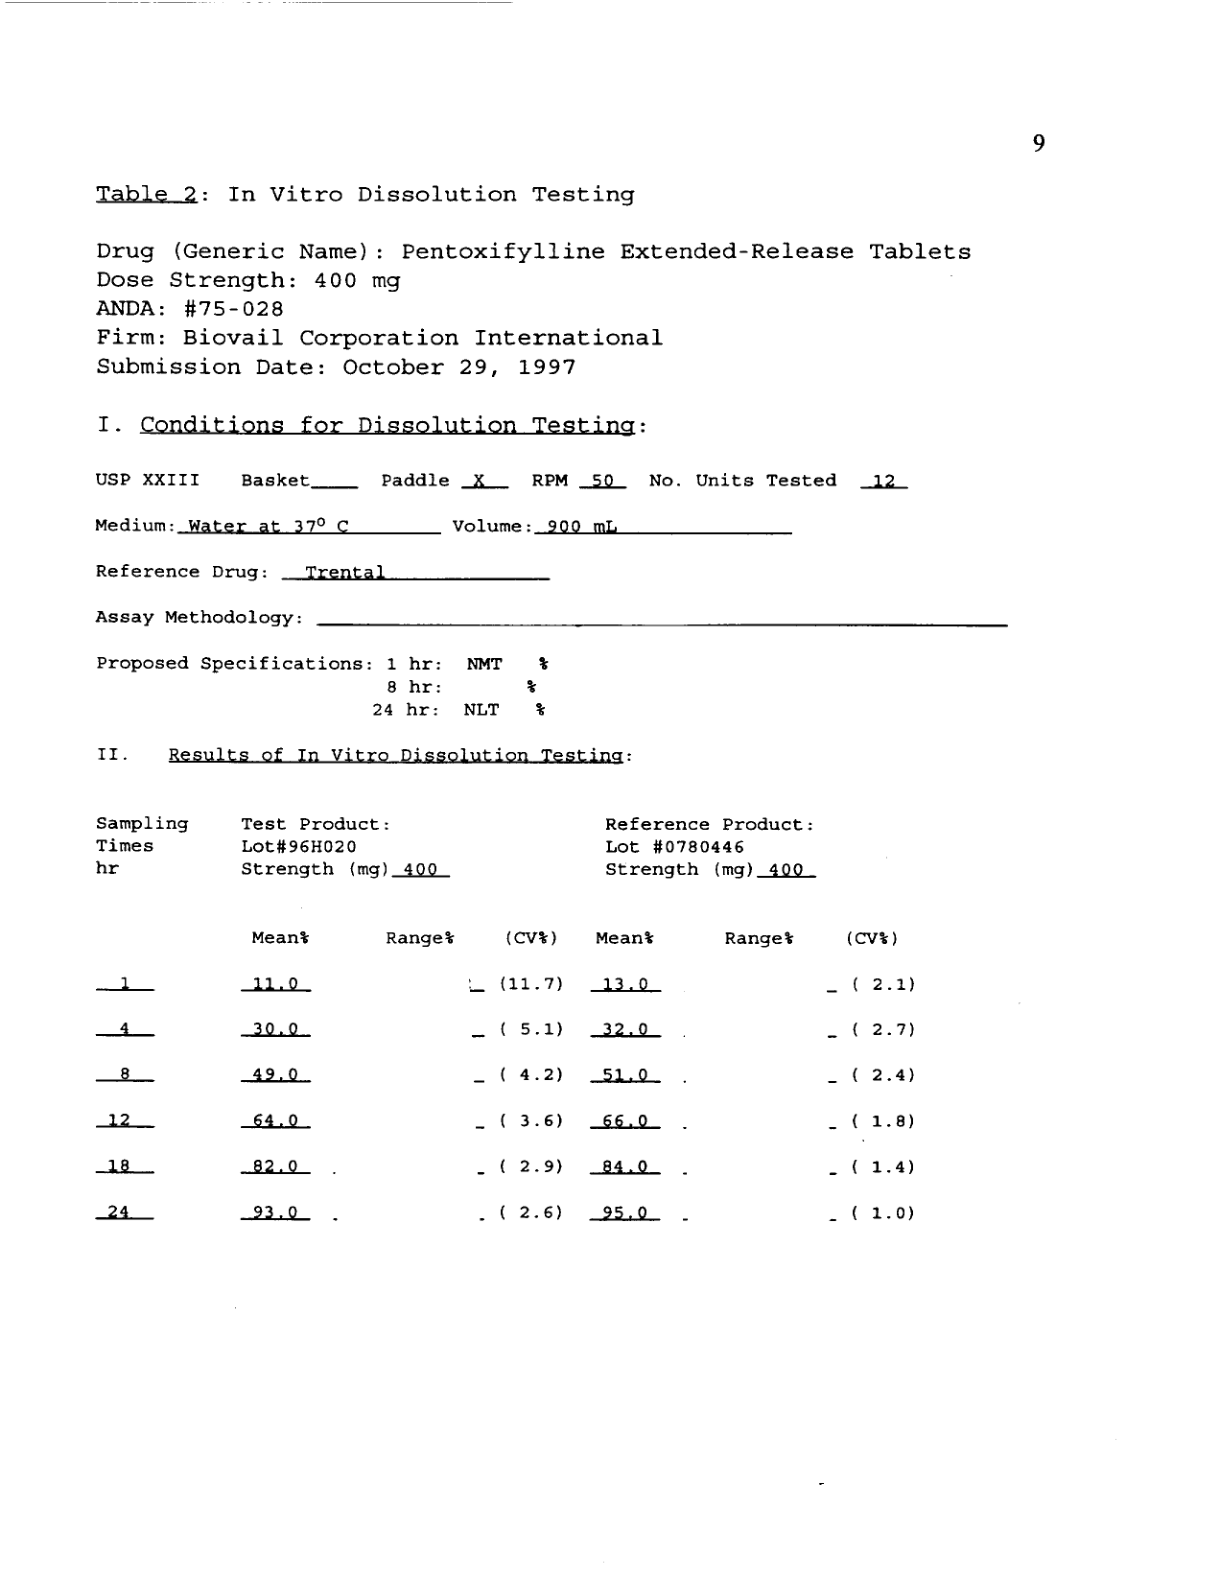nolines: (90, 812, 917, 1227)
